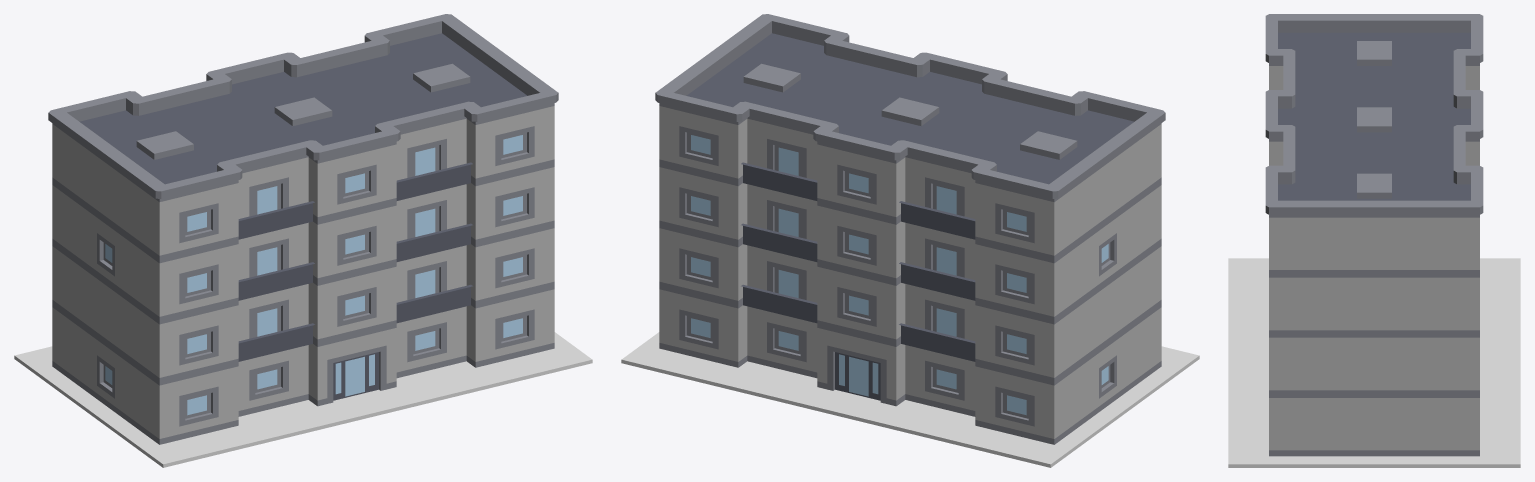
The model's file is building3x5.glb.
The picture shows the model from 3 angles, left to right: view 1: azimuth 30°, elevation 25°; view 2: azimuth 150°, elevation 25°; view 3: azimuth 270°, elevation 25°; orthographic projection.
Parts seen in each view (by area): view 1: large_buildingA, Cube; view 2: large_buildingA, Cube; view 3: large_buildingA, Cube.
Boxes of the visible parts, bbox=[...] form: large_buildingA: bbox=[48, 14, 558, 444]; Cube: bbox=[14, 332, 592, 467]; large_buildingA: bbox=[655, 14, 1165, 444]; Cube: bbox=[621, 332, 1199, 467]; large_buildingA: bbox=[1265, 14, 1483, 456]; Cube: bbox=[1228, 258, 1520, 467].
Bounding box in the file's own units: 50 × 28.76 × 30.
